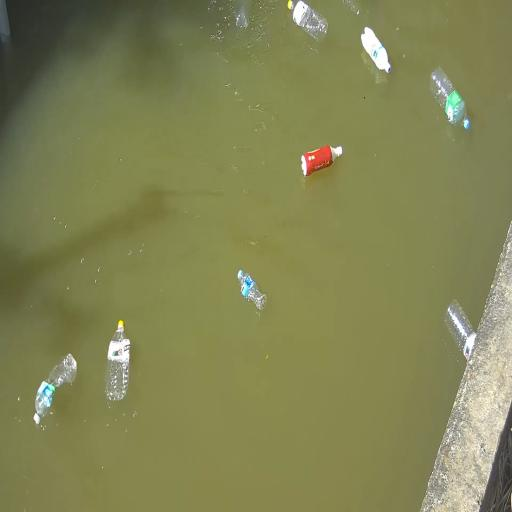plastic: (34, 354, 77, 424), (430, 67, 470, 129), (105, 320, 130, 402), (445, 300, 476, 360), (361, 27, 391, 73), (302, 146, 342, 177), (238, 270, 266, 313)
